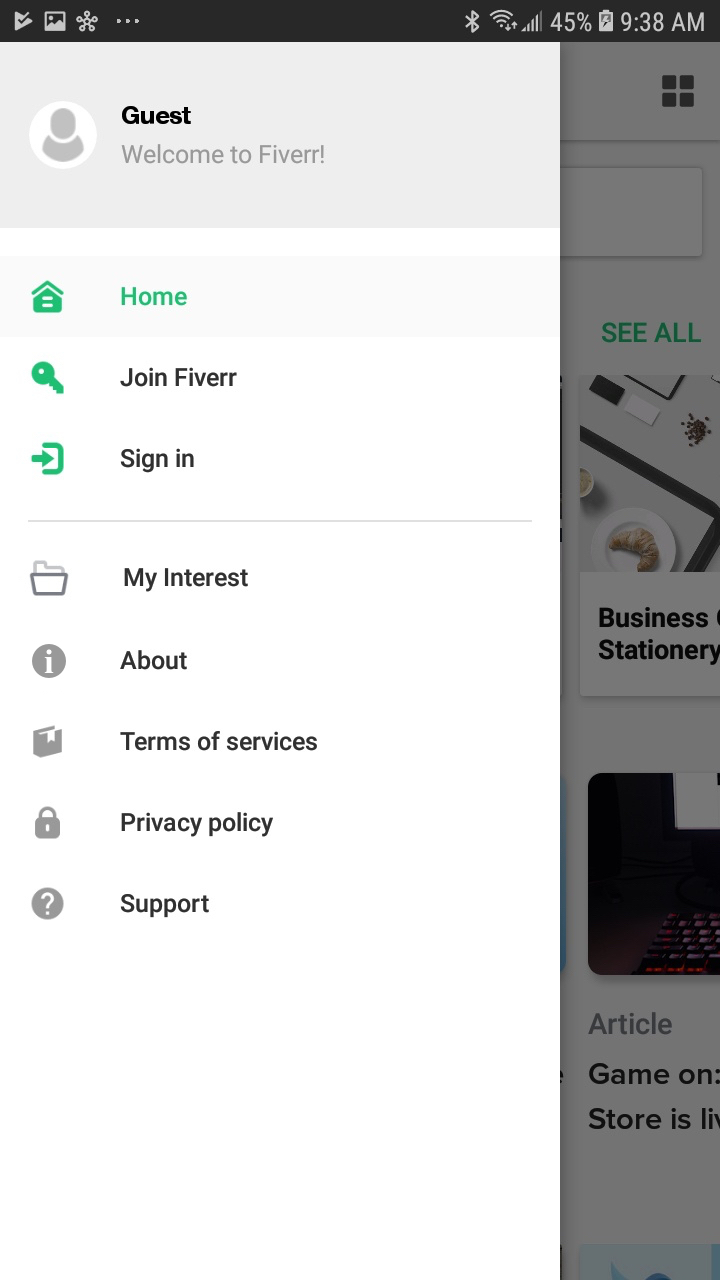Drawer: (1, 43, 560, 1280)
Icon: (29, 102, 98, 170), (30, 560, 70, 597), (32, 643, 67, 679), (32, 441, 66, 476), (31, 281, 65, 315), (31, 887, 65, 921), (35, 806, 62, 840)
Image: (32, 361, 66, 395), (33, 724, 64, 759)
Text: (122, 143, 326, 165), (120, 730, 318, 752), (121, 811, 275, 838), (124, 567, 249, 593), (120, 367, 238, 388), (120, 893, 210, 918), (121, 448, 196, 474), (120, 649, 189, 671), (122, 106, 193, 126), (122, 286, 189, 307)
UpperTaskBar: (1, 1, 720, 43)
